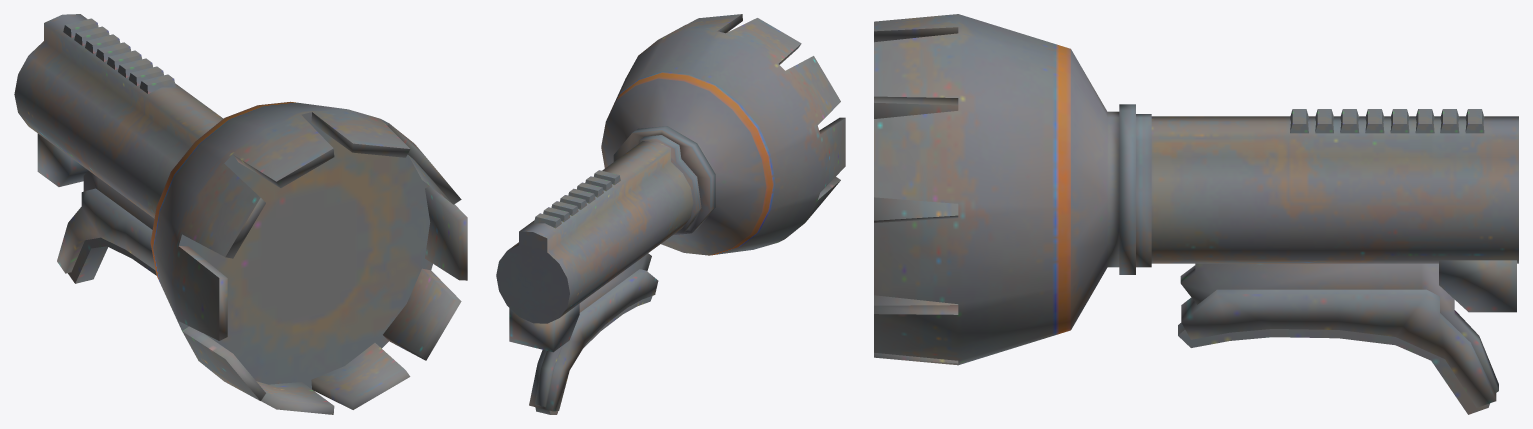
The model's file is stock2.obj.
3 views of the same model, side by side, from view 1: azimuth 30°, elevation 25°; view 2: azimuth 150°, elevation 25°; view 3: azimuth 270°, elevation 25° (orthographic). The views are drawn at different scales.
Parts seen in each view (by area): view 1: stock2; view 2: stock2; view 3: stock2.
Boxes of the visible parts, box(x1,y1,x2,y2) form: stock2: box(14, 14, 467, 414); stock2: box(496, 14, 845, 414); stock2: box(874, 14, 1518, 414).
Size of the model in its own units: 24.09 by 28.5 by 43.88.
